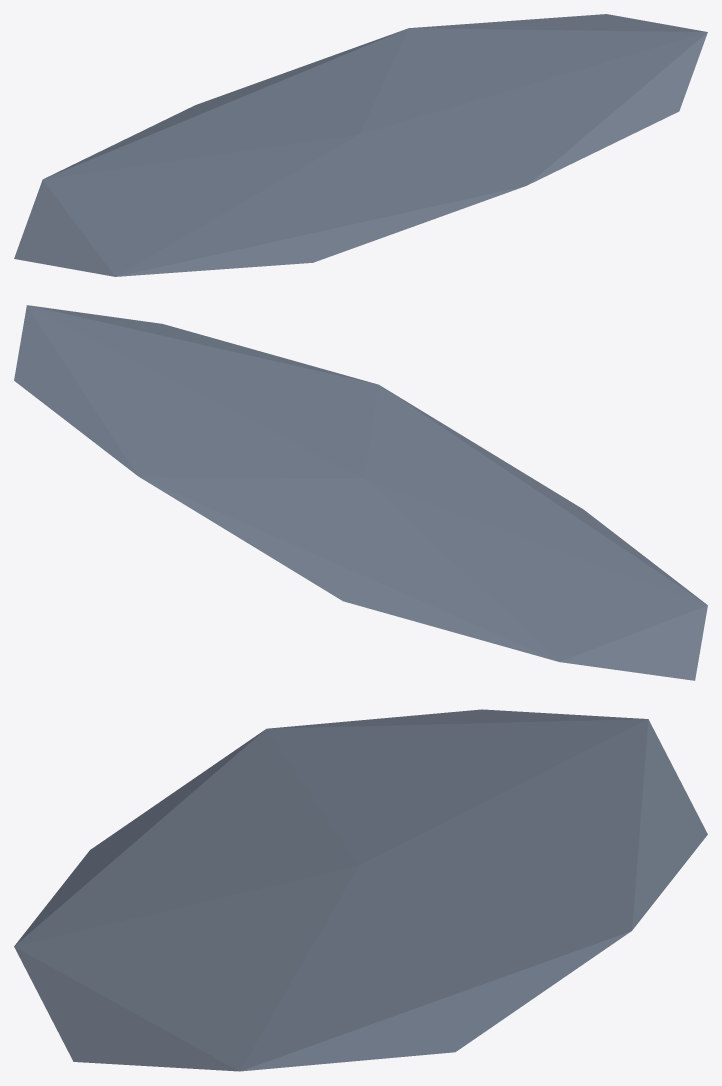
Rendered from EXTG_NorthRoad_03.glb.
3 views of the same model, one above another, from view 1: azimuth 30°, elevation 25°; view 2: azimuth 150°, elevation 25°; view 3: azimuth 270°, elevation 25° (orthographic). The views are drawn at different scales.
Visible parts, largest first — view 1: EXTG_NorthRoad_03; view 2: EXTG_NorthRoad_03; view 3: EXTG_NorthRoad_03.
Boxes of the visible parts, box(x1,y1,x2,y2) form: EXTG_NorthRoad_03: box(14, 14, 707, 276); EXTG_NorthRoad_03: box(14, 305, 707, 680); EXTG_NorthRoad_03: box(14, 709, 707, 1071).
Bounding box in the file's own units: 1.89 × 0.3414 × 0.9394.
